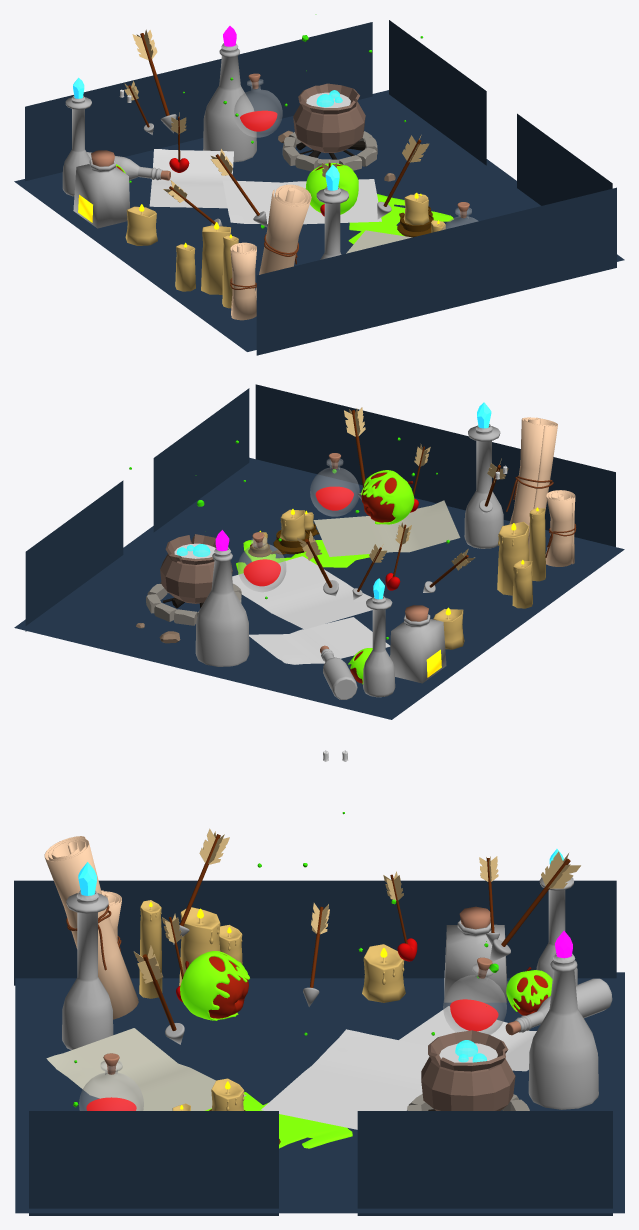
The model's file is RPG_R.fbx.
The picture shows the model from 3 angles, top to bottom: view 1: azimuth 30°, elevation 25°; view 2: azimuth 150°, elevation 25°; view 3: azimuth 270°, elevation 25°; orthographic projection. The views are drawn at different scales.
Parts seen in each view (by area): view 1: Plane.101, Plane.102, pPlane4.027, Sphere.002, crystal.005, Pr, Fluent_Wire.059, Cylinder.090, Plane.104, crystal.037, crystal.036, Circle.055 (+13 smaller); view 2: Plane.102, Plane.101, pPlane4.027, pPlane4.015, crystal.005, Sphere.002, Fluent_Wire.059, Pr, crystal.036, crystal.037, Retopo_31 _Ripe_PatriciaMischaLopes.001, Sphere.043 (+13 smaller); view 3: Plane.101, Plane.102, pPlane4.027, pPlane4.015, crystal.005, Sphere.002, crystal.036, Fluent_Wire.059, Pr, Retopo_31 _Ripe_PatriciaMischaLopes.001, Cylinder.090, Sphere.043 (+15 smaller).
Part boxes in pixels (x1,y1,x2,y2): Plane.101: (25, 20, 616, 355); Plane.102: (14, 90, 624, 351); pPlane4.027: (149, 149, 381, 224); Sphere.002: (282, 83, 377, 171); crystal.005: (203, 26, 256, 162); Pr: (73, 150, 129, 228); Fluent_Wire.059: (255, 184, 311, 299); Cylinder.090: (234, 73, 282, 137); Plane.104: (230, 242, 256, 320); crystal.037: (62, 77, 91, 196); crystal.036: (316, 164, 348, 259); Circle.055: (201, 222, 231, 294); Plane.102: (14, 457, 624, 719); Plane.101: (25, 384, 615, 631); pPlane4.027: (232, 556, 390, 664); pPlane4.015: (313, 500, 460, 556); crystal.005: (195, 530, 249, 666); Sphere.002: (146, 534, 241, 625); Fluent_Wire.059: (506, 417, 557, 555); Pr: (390, 605, 446, 683); crystal.036: (464, 402, 503, 548); crystal.037: (363, 578, 395, 697); Retopo_31 _Ripe_PatriciaMischaLopes.001: (361, 470, 414, 524); Sphere.043: (310, 453, 359, 516); Plane.101: (14, 880, 616, 1215); Plane.102: (15, 972, 624, 1213); pPlane4.027: (260, 1006, 536, 1129); pPlane4.015: (46, 1028, 246, 1110); crystal.005: (528, 930, 598, 1109); Sphere.002: (407, 1030, 529, 1110); crystal.036: (62, 862, 113, 1050); Fluent_Wire.059: (44, 836, 138, 1019); Pr: (444, 906, 507, 1002); Retopo_31 _Ripe_PatriciaMischaLopes.001: (180, 951, 249, 1020); Cylinder.090: (443, 957, 506, 1034); Sphere.043: (79, 1053, 143, 1110).
Size of the model in its own units: 1296 by 576 by 1385.
